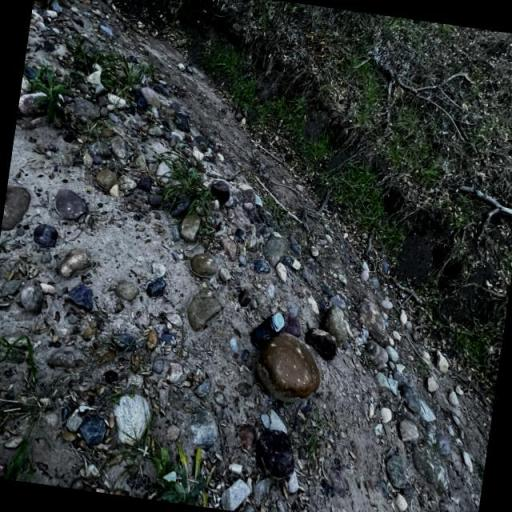bottle: (249, 310, 285, 351)
